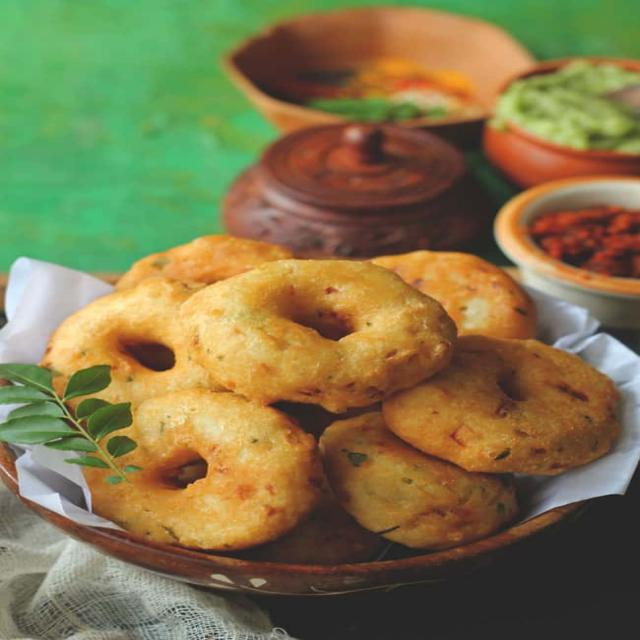MEDU VADA: (44, 232, 626, 566)
